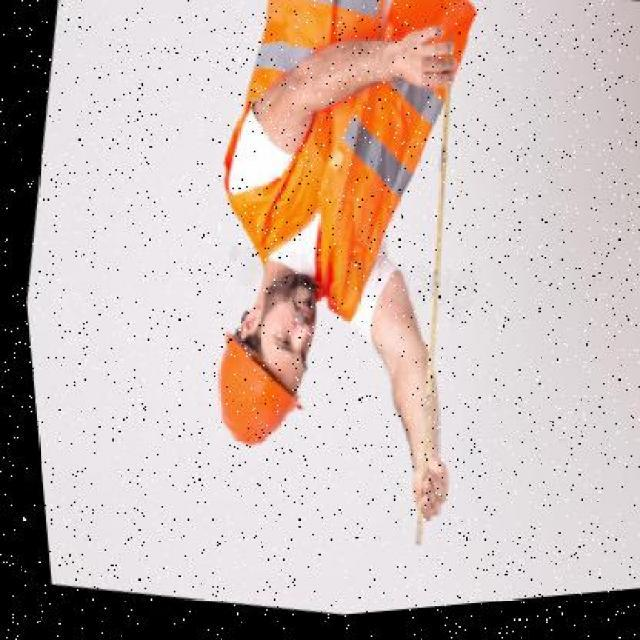helmet: (188, 298, 320, 466)
vest: (178, 0, 456, 338)
